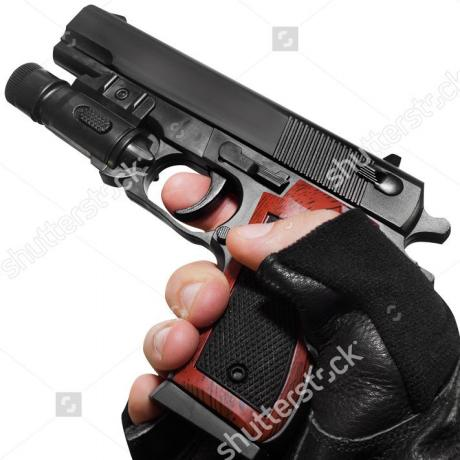1: (127, 176, 460, 460)
weapon: (17, 0, 460, 239)
